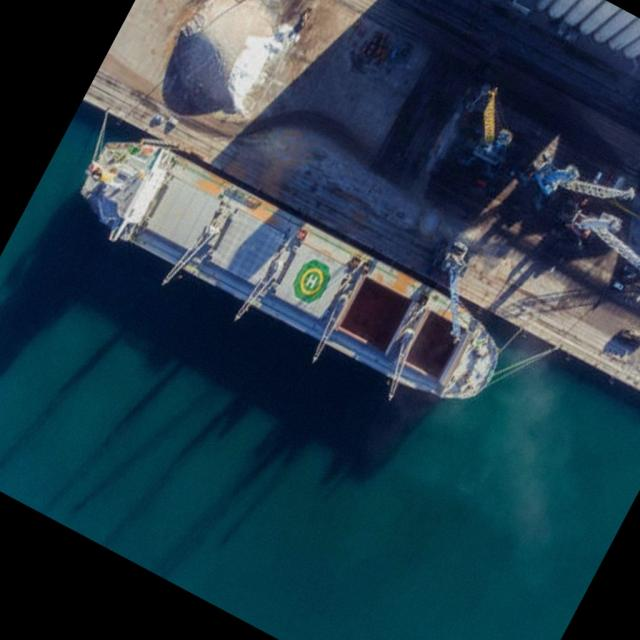helipad: (298, 266, 323, 294)
